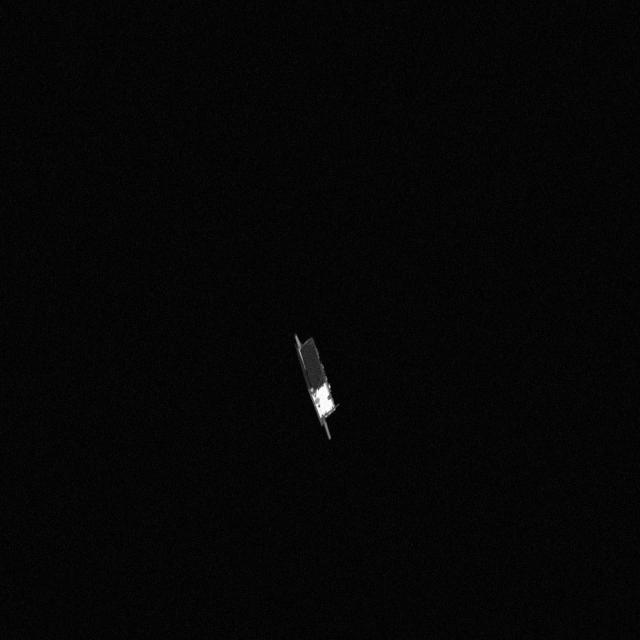satellite: (290, 328, 350, 434)
